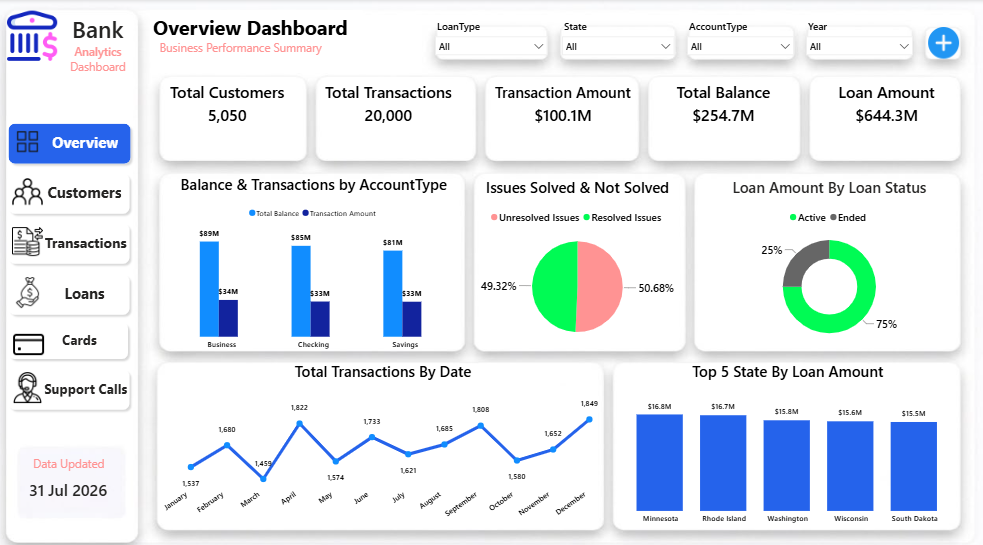

The page's visual inventory and layout, read from the dashboard file:
{"tool":"powerbi","page":{"name":"Overview","canvas":[1600,900],"ordinal":0},"visuals":[{"type":"cardVisual","fields":{"Data":["Calculation Overview.Total Customers"]},"box":[249.4,115.7,249.4,104.8],"z":0},{"type":"shape","box":[14,515.2,207.3,73.4],"z":0,"group":"g6"},{"type":"cardVisual","fields":{"Data":["Calculation Overview.Total Transactions"]},"box":[498.8,110,272.9,115.7],"z":1000},{"type":"image","box":[24,533.7,60,50],"z":1000,"group":"g6"},{"type":"cardVisual","title":"Transaction Amount","fields":{"Data":["Calculation Overview.Amount Transactions"]},"box":[771.7,108.2,291,119.3],"z":2000},{"type":"cardVisual","fields":{"Data":["Calculation Overview.Total Balance"]},"box":[1053.6,110,244,115.7],"z":3000},{"type":"cardVisual","fields":{"Data":["Calculation Overview.Loan Amount"]},"box":[1306.6,111.2,263.3,113.3],"z":4000},{"type":"cardVisual","fields":{"Data":["Calculation Overview.Change_of_Trans"]},"box":[513.3,196.6,132.9,52.9],"z":5000},{"type":"cardVisual","fields":{"Data":["Calculation Overview.Change_of_Am_Trans"]},"box":[793.4,195.2,148.2,56],"z":6000},{"type":"cardVisual","fields":{"Data":["Calculation Overview.Change_of_Balance"]},"box":[1053.2,191.9,146.8,61.3],"z":7000},{"type":"cardVisual","fields":{"Data":["Calculation Overview.Change_of_Loans"]},"box":[1306.6,187.2,131.5,71.7],"z":8000},{"type":"clusteredColumnChart","title":"Balance & Transactions by AccountType","fields":{"Category":["Accounts.AccountType"],"Y":["Calculation Overview.Total Balance","Calculation Overview.Amount Transactions"]},"box":[266.7,282.2,495.5,292.5],"z":9000},{"type":"donutChart","title":"Loan Amount By Loan Status","fields":{"Category":["Loans.Loan_Status"],"Y":["Sum(Loans.LoanAmount)"]},"box":[1130.3,287.3,430.1,278.7],"z":10000},{"type":"lineChart","title":"Total Transactions By Date","fields":{"Category":["Calender.Date.Variation.Date Hierarchy.Year","Calender.Date.Variation.Date Hierarchy.Quarter","Calender.Date.Variation.Date Hierarchy.Month"],"Y":["Calculation Overview.Total Transactions"]},"box":[264.9,583.2,722.6,271.8],"z":11000},{"type":"columnChart","title":"Top 5 State By Loan Amount","fields":{"Category":["customers.State"],"Y":["Calculation Overview.Loan Amount"]},"box":[989.2,583.2,579.8,271.8],"z":12000},{"type":"pieChart","title":"Issues Solved & Not Solved","fields":{"Y":["Customer Service.Issues_Not_Solved","Customer Service.Issues_Solved"]},"box":[772.5,287.3,333.8,278.7],"z":13000},{"type":"cardVisual","fields":{"Data":["Calculation Overview.Arrow customers"]},"box":[435.5,196.6,78.6,52.9],"z":14000},{"type":"cardVisual","fields":{"Data":["Calculation Overview.Arrow Transactions"]},"box":[679.5,192.3,82.9,61.4],"z":15000},{"type":"cardVisual","fields":{"Data":["Calculation Overview.Arrow Amount"]},"box":[948.8,193.1,79.3,59.8],"z":16000},{"type":"cardVisual","fields":{"Data":["Calculation Overview.Arrow Balance"]},"box":[1200,189.9,84.8,66.3],"z":17000},{"type":"cardVisual","fields":{"Data":["Calculation Overview.Arrow Loan"]},"box":[1456.6,195,83.1,56],"z":18000},{"type":"cardVisual","fields":{"Data":["Calculation Overview.Change_of_customers"]},"box":[250,195.2,154.8,54.8],"z":19000},{"type":"slicer","fields":{"Values":["Calender.Year"]},"box":[1297.6,28,191.6,70.5],"z":20000},{"type":"group","id":"g1","title":"Group 1","box":[14,194,212,80],"z":21000},{"type":"group","id":"g2","title":"Group 1","box":[14,274.8,210,80],"z":22000},{"type":"shape","box":[14,194,211.6,79.5],"z":23000,"group":"g1"},{"type":"shape","box":[14,274.8,209.6,79.5],"z":23000,"group":"g2"},{"type":"group","id":"g3","title":"Group 1","box":[14,355.6,210,80],"z":23000},{"type":"shape","box":[14,355.6,209.6,79.5],"z":23000,"group":"g3"},{"type":"shape","box":[14,436.4,209.6,79.5],"z":23000,"group":"g4"},{"type":"shape","box":[14,590,209.6,79.5],"z":23000,"group":"g5"},{"type":"image","box":[26.8,201.2,50.5,60],"z":24000,"group":"g1"},{"type":"image","box":[26.7,282,50,60],"z":24000,"group":"g2"},{"type":"image","box":[26.7,362.8,50,60],"z":24000,"group":"g3"},{"type":"group","id":"g4","title":"Group 1","box":[14,436.4,210,78],"z":24000},{"type":"image","box":[26.7,443.6,50,60],"z":24000,"group":"g4"},{"type":"image","box":[26.7,597.2,50,60],"z":24000,"group":"g5"},{"type":"group","id":"g5","title":"Group 1","box":[14,590,210,80],"z":25000},{"type":"slicer","fields":{"Values":["Accounts.AccountType"]},"box":[1106,28,191.6,70.5],"z":26000},{"type":"slicer","fields":{"Values":["customers.State"]},"box":[905.4,28,200.6,70.5],"z":27000},{"type":"slicer","fields":{"Values":["Loans.LoanType"]},"box":[699.4,28,200.6,70.5],"z":28000},{"type":"image","box":[19.9,18.1,81.3,83.1],"z":29000},{"type":"textbox","box":[101.2,18.1,128.3,65.1],"z":30000},{"type":"textbox","box":[101.2,66.9,128.3,65.1],"z":31000},{"type":"cardVisual","fields":{"Data":["Customer Service.Today"]},"box":[25.3,750,197,79.5],"z":32000},{"type":"textbox","box":[56,730.1,137.3,39.8],"z":33000},{"type":"textbox","box":[249.4,18.1,343.4,83.1],"z":34000},{"type":"image","box":[1500,45.2,59.6,50.6],"z":35000},{"type":"group","id":"g6","title":"Group 2","box":[14,515.2,208,74],"z":36000}]}

Visuals, with their boxes on the page's 1600x900 design canvas (x1, y1, x2, y2). These are canvas units, not pixel positions in the 983x545 screenshot, which may show the page scaled, cropped or inside an application window:
cardVisual - Calculation Overview.Total Customers: {"left": 249, "top": 116, "right": 499, "bottom": 220}
shape: {"left": 14, "top": 515, "right": 221, "bottom": 589}
cardVisual - Calculation Overview.Total Transactions: {"left": 499, "top": 110, "right": 772, "bottom": 226}
image: {"left": 24, "top": 534, "right": 84, "bottom": 584}
"Transaction Amount" cardVisual: {"left": 772, "top": 108, "right": 1063, "bottom": 228}
cardVisual - Calculation Overview.Total Balance: {"left": 1054, "top": 110, "right": 1298, "bottom": 226}
cardVisual - Calculation Overview.Loan Amount: {"left": 1307, "top": 111, "right": 1570, "bottom": 224}
cardVisual - Calculation Overview.Change_of_Trans: {"left": 513, "top": 197, "right": 646, "bottom": 250}
cardVisual - Calculation Overview.Change_of_Am_Trans: {"left": 793, "top": 195, "right": 942, "bottom": 251}
cardVisual - Calculation Overview.Change_of_Balance: {"left": 1053, "top": 192, "right": 1200, "bottom": 253}
cardVisual - Calculation Overview.Change_of_Loans: {"left": 1307, "top": 187, "right": 1438, "bottom": 259}
"Balance & Transactions by AccountType" clusteredColumnChart: {"left": 267, "top": 282, "right": 762, "bottom": 575}
"Loan Amount By Loan Status" donutChart: {"left": 1130, "top": 287, "right": 1560, "bottom": 566}
"Total Transactions By Date" lineChart: {"left": 265, "top": 583, "right": 988, "bottom": 855}
"Top 5 State By Loan Amount" columnChart: {"left": 989, "top": 583, "right": 1569, "bottom": 855}
"Issues Solved & Not Solved" pieChart: {"left": 772, "top": 287, "right": 1106, "bottom": 566}
cardVisual - Calculation Overview.Arrow customers: {"left": 436, "top": 197, "right": 514, "bottom": 250}
cardVisual - Calculation Overview.Arrow Transactions: {"left": 680, "top": 192, "right": 762, "bottom": 254}
cardVisual - Calculation Overview.Arrow Amount: {"left": 949, "top": 193, "right": 1028, "bottom": 253}
cardVisual - Calculation Overview.Arrow Balance: {"left": 1200, "top": 190, "right": 1285, "bottom": 256}
cardVisual - Calculation Overview.Arrow Loan: {"left": 1457, "top": 195, "right": 1540, "bottom": 251}
cardVisual - Calculation Overview.Change_of_customers: {"left": 250, "top": 195, "right": 405, "bottom": 250}
slicer - Calender.Year: {"left": 1298, "top": 28, "right": 1489, "bottom": 98}
"Group 1" group: {"left": 14, "top": 194, "right": 226, "bottom": 274}
"Group 1" group: {"left": 14, "top": 275, "right": 224, "bottom": 355}
shape: {"left": 14, "top": 194, "right": 226, "bottom": 274}
shape: {"left": 14, "top": 275, "right": 224, "bottom": 354}
"Group 1" group: {"left": 14, "top": 356, "right": 224, "bottom": 436}
shape: {"left": 14, "top": 356, "right": 224, "bottom": 435}
shape: {"left": 14, "top": 436, "right": 224, "bottom": 516}
shape: {"left": 14, "top": 590, "right": 224, "bottom": 670}
image: {"left": 27, "top": 201, "right": 77, "bottom": 261}
image: {"left": 27, "top": 282, "right": 77, "bottom": 342}
image: {"left": 27, "top": 363, "right": 77, "bottom": 423}
"Group 1" group: {"left": 14, "top": 436, "right": 224, "bottom": 514}
image: {"left": 27, "top": 444, "right": 77, "bottom": 504}
image: {"left": 27, "top": 597, "right": 77, "bottom": 657}
"Group 1" group: {"left": 14, "top": 590, "right": 224, "bottom": 670}
slicer - Accounts.AccountType: {"left": 1106, "top": 28, "right": 1298, "bottom": 98}
slicer - customers.State: {"left": 905, "top": 28, "right": 1106, "bottom": 98}
slicer - Loans.LoanType: {"left": 699, "top": 28, "right": 900, "bottom": 98}
image: {"left": 20, "top": 18, "right": 101, "bottom": 101}
textbox: {"left": 101, "top": 18, "right": 230, "bottom": 83}
textbox: {"left": 101, "top": 67, "right": 230, "bottom": 132}
cardVisual - Customer Service.Today: {"left": 25, "top": 750, "right": 222, "bottom": 830}
textbox: {"left": 56, "top": 730, "right": 193, "bottom": 770}
textbox: {"left": 249, "top": 18, "right": 593, "bottom": 101}
image: {"left": 1500, "top": 45, "right": 1560, "bottom": 96}
"Group 2" group: {"left": 14, "top": 515, "right": 222, "bottom": 589}
